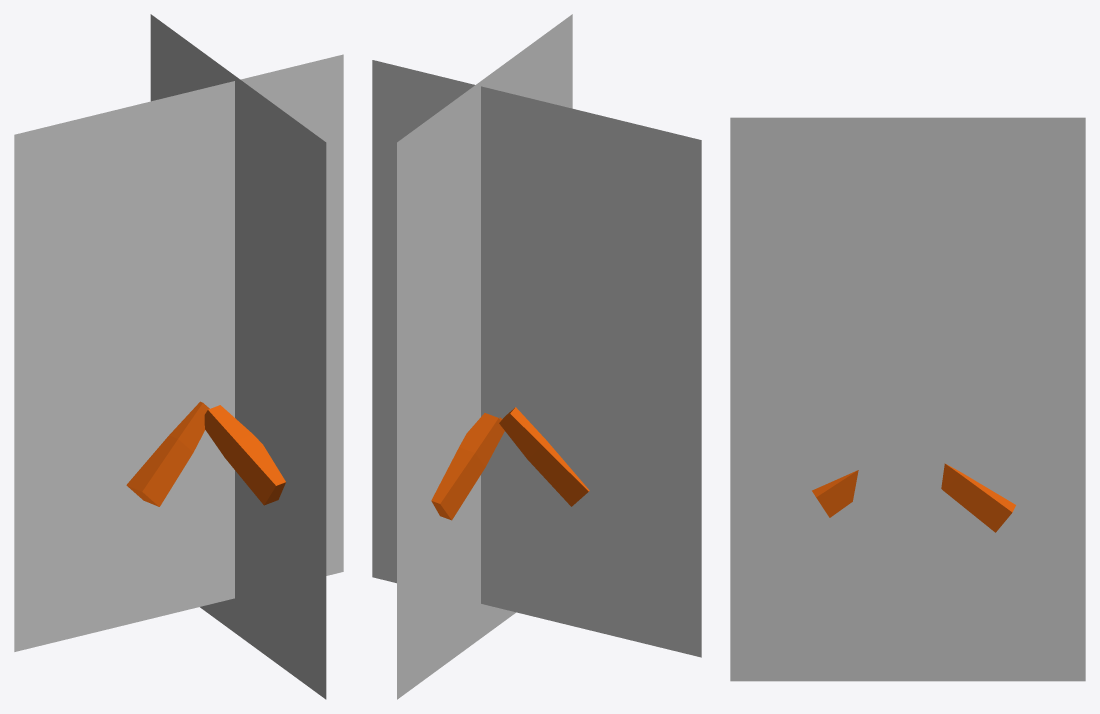
3 views of the same model, side by side, from view 1: azimuth 30°, elevation 25°; view 2: azimuth 150°, elevation 25°; view 3: azimuth 270°, elevation 25° (orthographic).
Visible parts, largest first — view 1: fire, Stroke; view 2: fire, Stroke; view 3: fire, Stroke.
Part boxes in pixels (x1,y1,x2,y2): fire: [14, 14, 343, 699]; Stroke: [126, 401, 285, 506]; fire: [372, 14, 701, 699]; Stroke: [431, 407, 589, 520]; fire: [730, 117, 1085, 681]; Stroke: [812, 463, 1015, 532].
Bounding box in the file's own units: 511 × 825 × 472.
